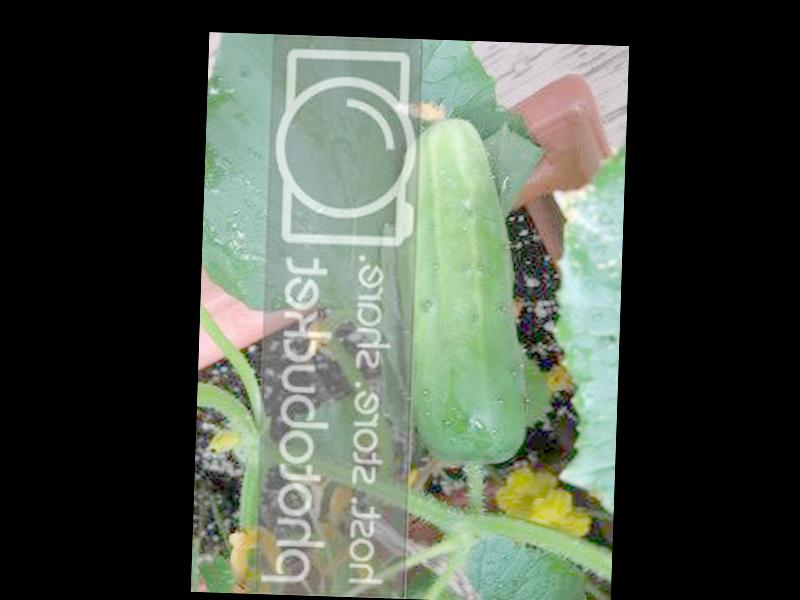Cucumber: (387, 113, 537, 462)
